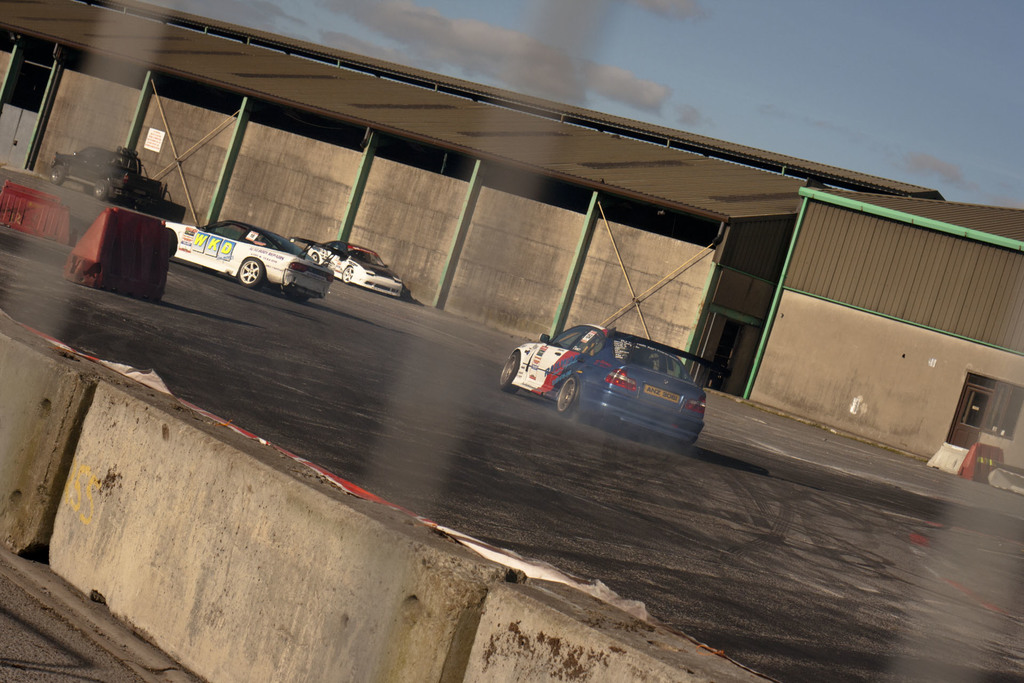Car: (503, 315, 732, 433), (162, 213, 338, 290), (287, 228, 406, 292)
